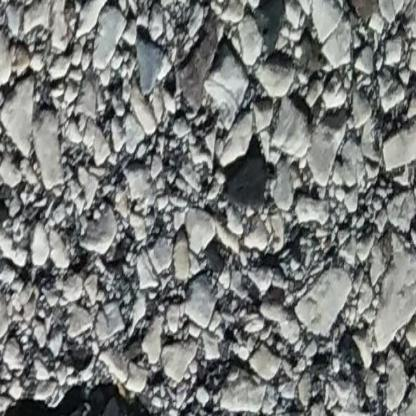Cracks: (0, 385, 175, 416)
